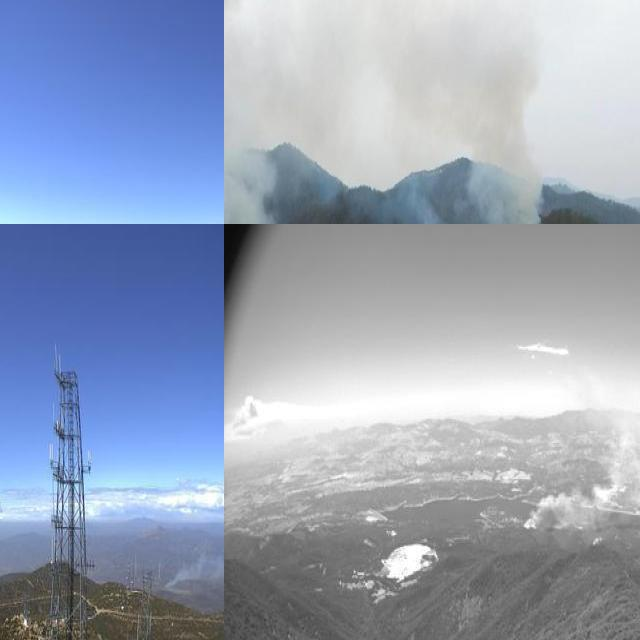smoke: (403, 0, 541, 224), (524, 395, 640, 539), (159, 537, 224, 591)
